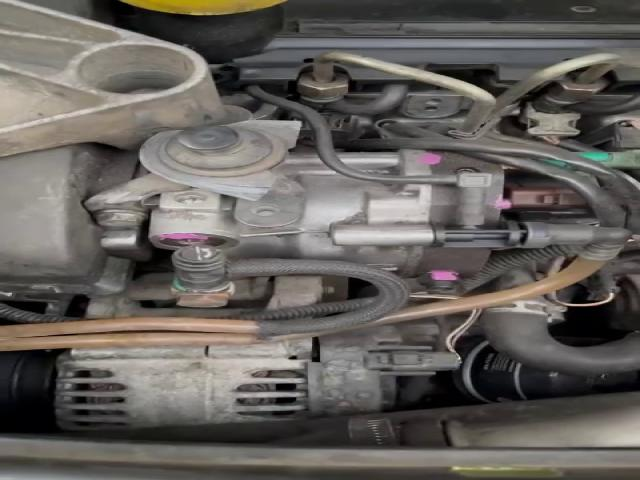alternator: (55, 321, 464, 431)
high_pressure_pump: (144, 148, 536, 289)
